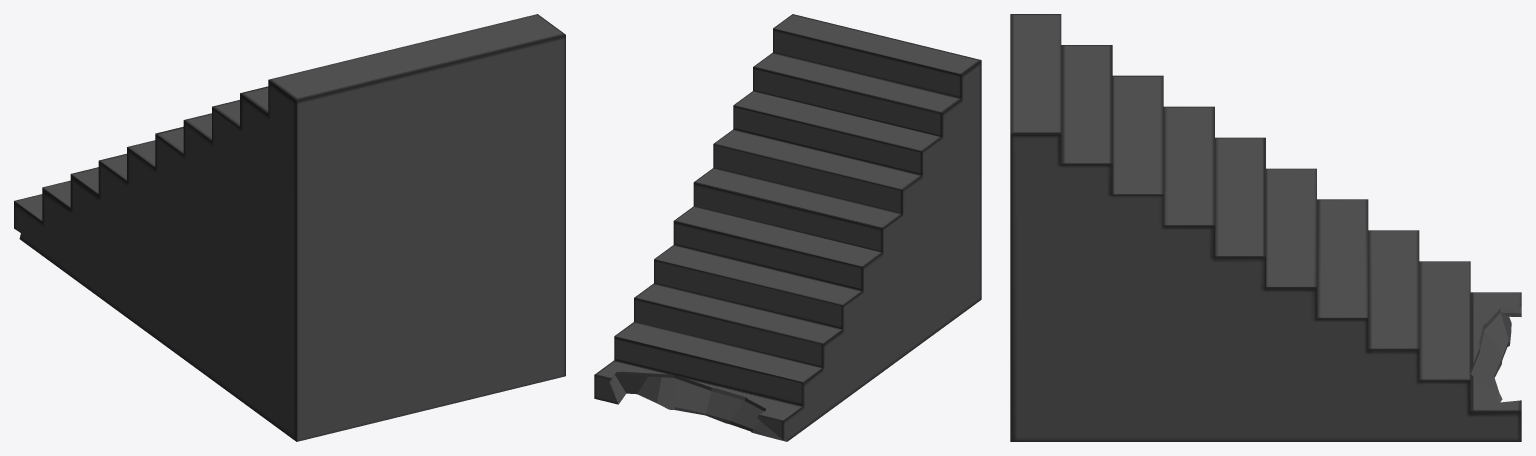
The model's file is merdiven_son1122222333.fbx.
The picture shows the model from 3 angles, left to right: view 1: azimuth 30°, elevation 25°; view 2: azimuth 150°, elevation 25°; view 3: azimuth 270°, elevation 25°; orthographic projection. The views are drawn at different scales.
Visible parts, largest first — view 1: Stairs_0_35___1_.004; view 2: Stairs_0_35___1_.004; view 3: Stairs_0_35___1_.004.
Part boxes in pixels (left/top/right/bottom): Stairs_0_35___1_.004: left=14, top=14, right=565, bottom=441; Stairs_0_35___1_.004: left=594, top=14, right=981, bottom=441; Stairs_0_35___1_.004: left=1010, top=14, right=1521, bottom=441.
Size of the model in its own units: 3 by 3.64 by 5.45.
Materials: 1 (1 with a texture image).
